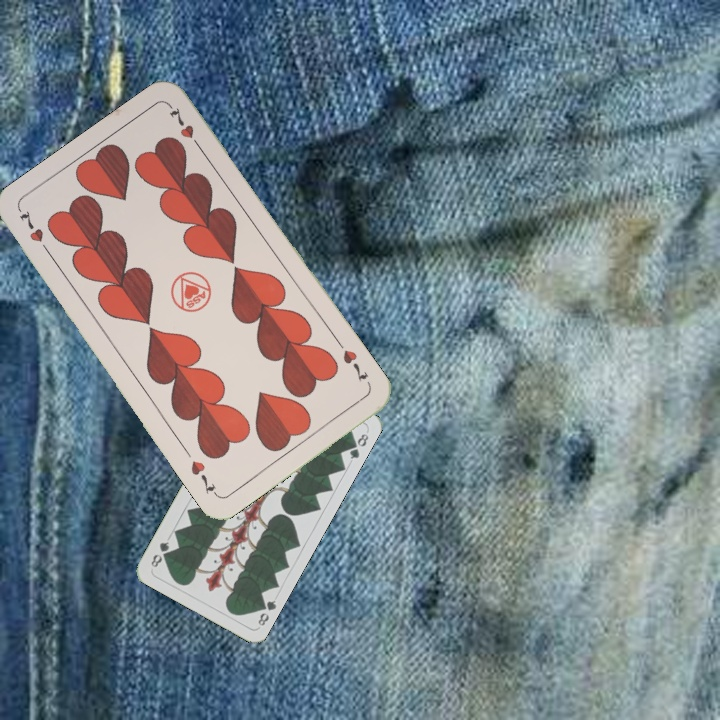G8: (253, 596, 279, 628)
H7: (15, 206, 54, 259), (338, 345, 371, 384)
